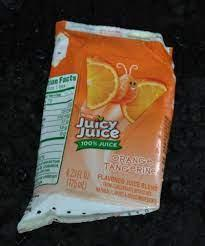cardboard: (18, 21, 175, 231)
